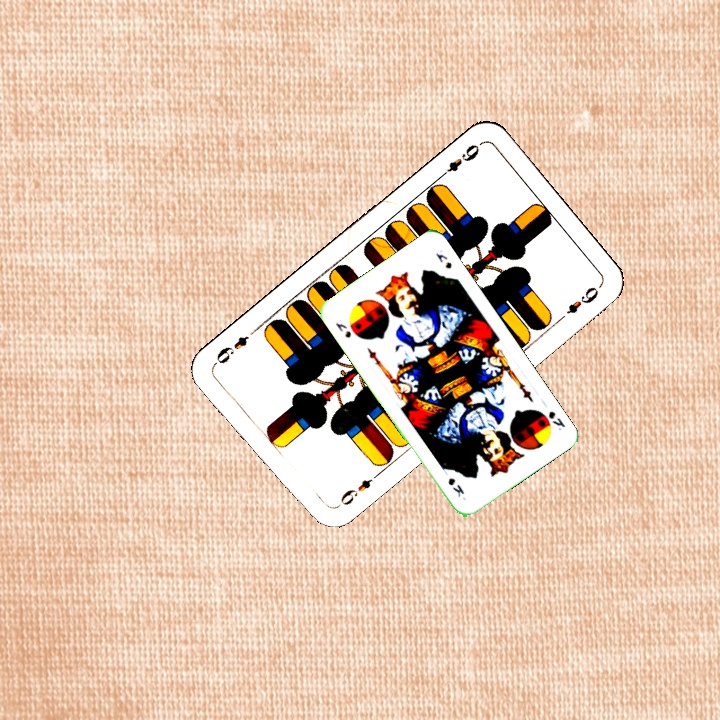E9: (434, 139, 484, 182), (330, 470, 381, 512)
SK: (544, 407, 568, 433), (331, 318, 354, 341)
